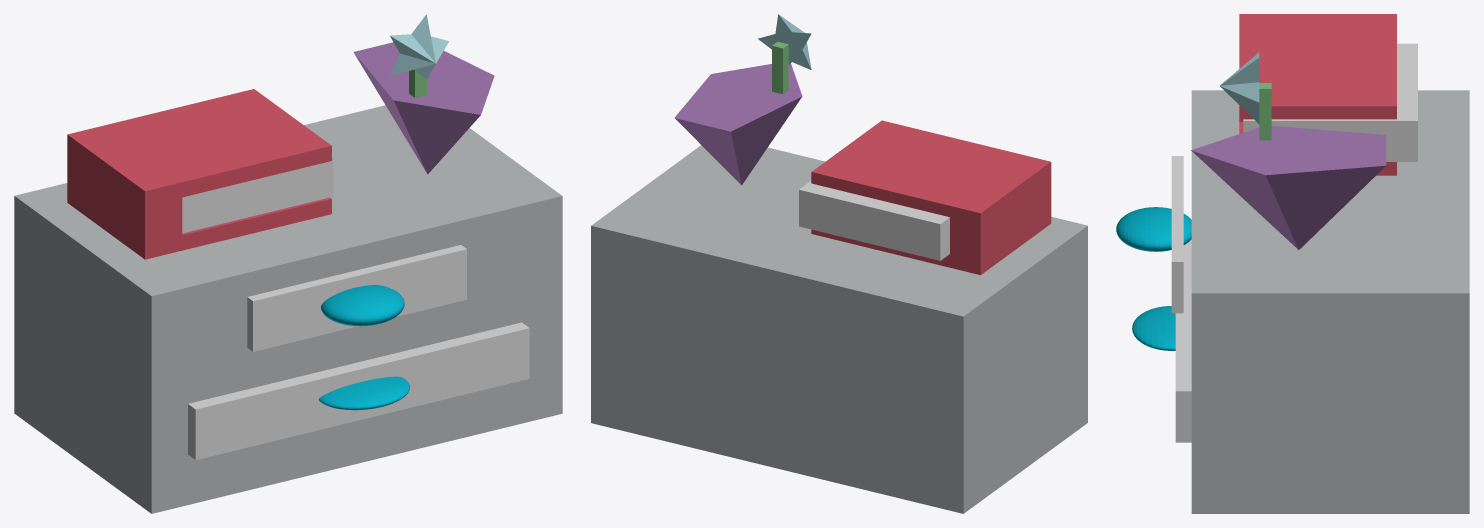
Rendered from Drawer, flower and book.glb.
The picture shows the model from 3 angles, left to right: view 1: azimuth 30°, elevation 25°; view 2: azimuth 150°, elevation 25°; view 3: azimuth 270°, elevation 25°; orthographic projection. The views are drawn at different scales.
Visible parts, largest first — view 1: Mesh_Mesh_head_geo.001_lambert2SG.001; view 2: Mesh_Mesh_head_geo.001_lambert2SG.001; view 3: Mesh_Mesh_head_geo.001_lambert2SG.001.
Part boxes in pixels (x1,y1,x2,y2): Mesh_Mesh_head_geo.001_lambert2SG.001: [14, 14, 562, 513]; Mesh_Mesh_head_geo.001_lambert2SG.001: [591, 14, 1087, 513]; Mesh_Mesh_head_geo.001_lambert2SG.001: [1116, 14, 1469, 513].
Size of the model in its own units: 121 by 113 by 89.
